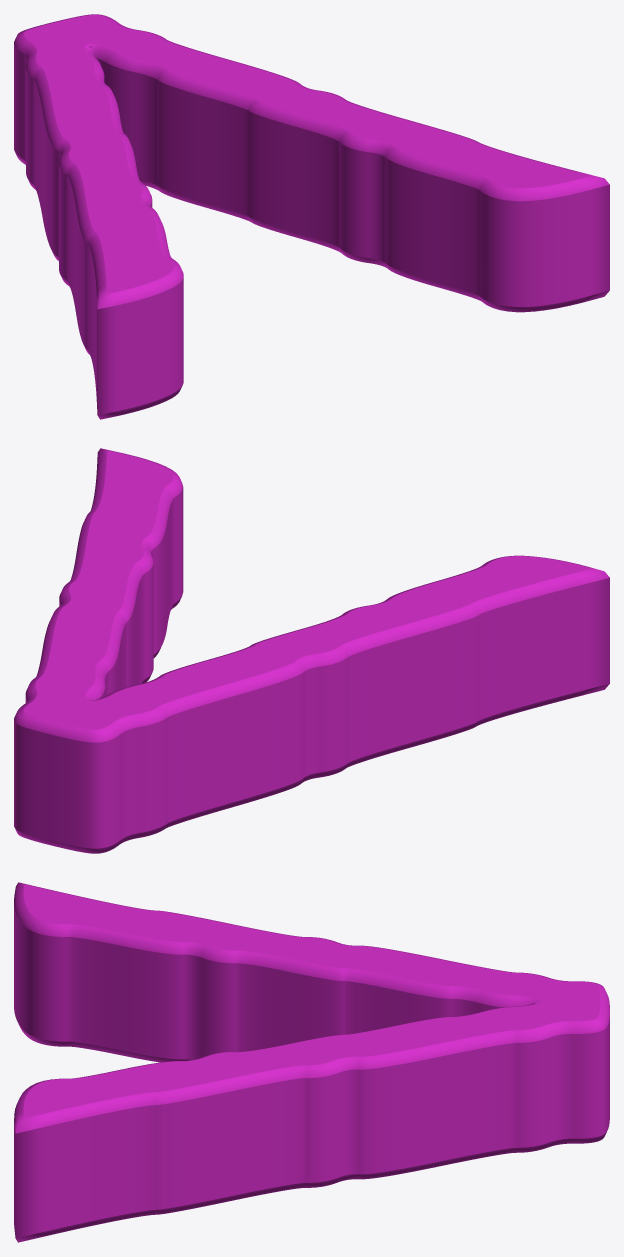
The model's file is Blocky_LetterV.fbx.
The picture shows the model from 3 angles, top to bottom: view 1: azimuth 30°, elevation 25°; view 2: azimuth 150°, elevation 25°; view 3: azimuth 270°, elevation 25°; orthographic projection.
Parts seen in each view (by area): view 1: BlockyLetter_V; view 2: BlockyLetter_V; view 3: BlockyLetter_V.
Part boxes in pixels (bbox=[...]): BlockyLetter_V: bbox=[14, 14, 609, 419]; BlockyLetter_V: bbox=[14, 448, 609, 853]; BlockyLetter_V: bbox=[14, 882, 609, 1242].
Bounding box in the file's own units: 0.6073 × 0.14 × 0.6188.
